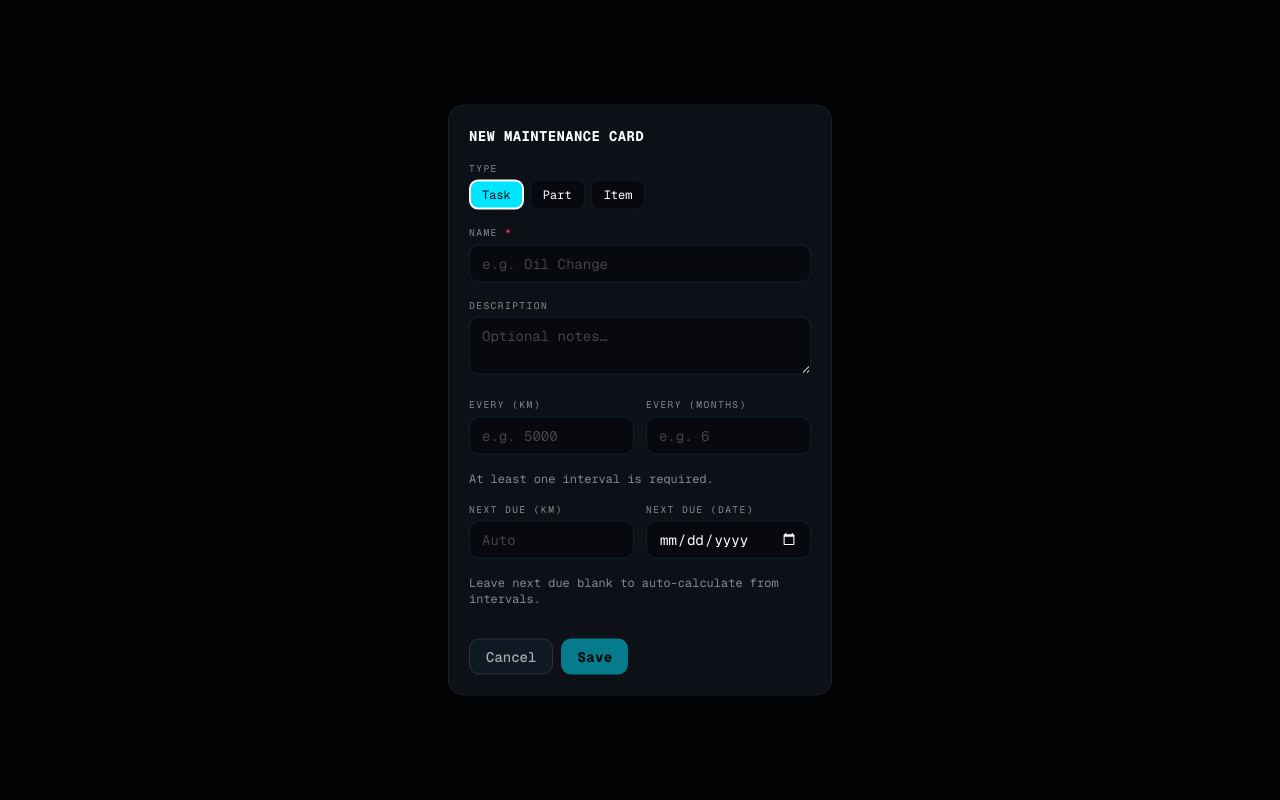
Test case: MaintenanceCardFormDialog › enables Save when name and at least one interval are filled
Type "My Card" into the field with placeholder "e.g. Oil Change" at (640, 263), box [469, 244, 811, 282]
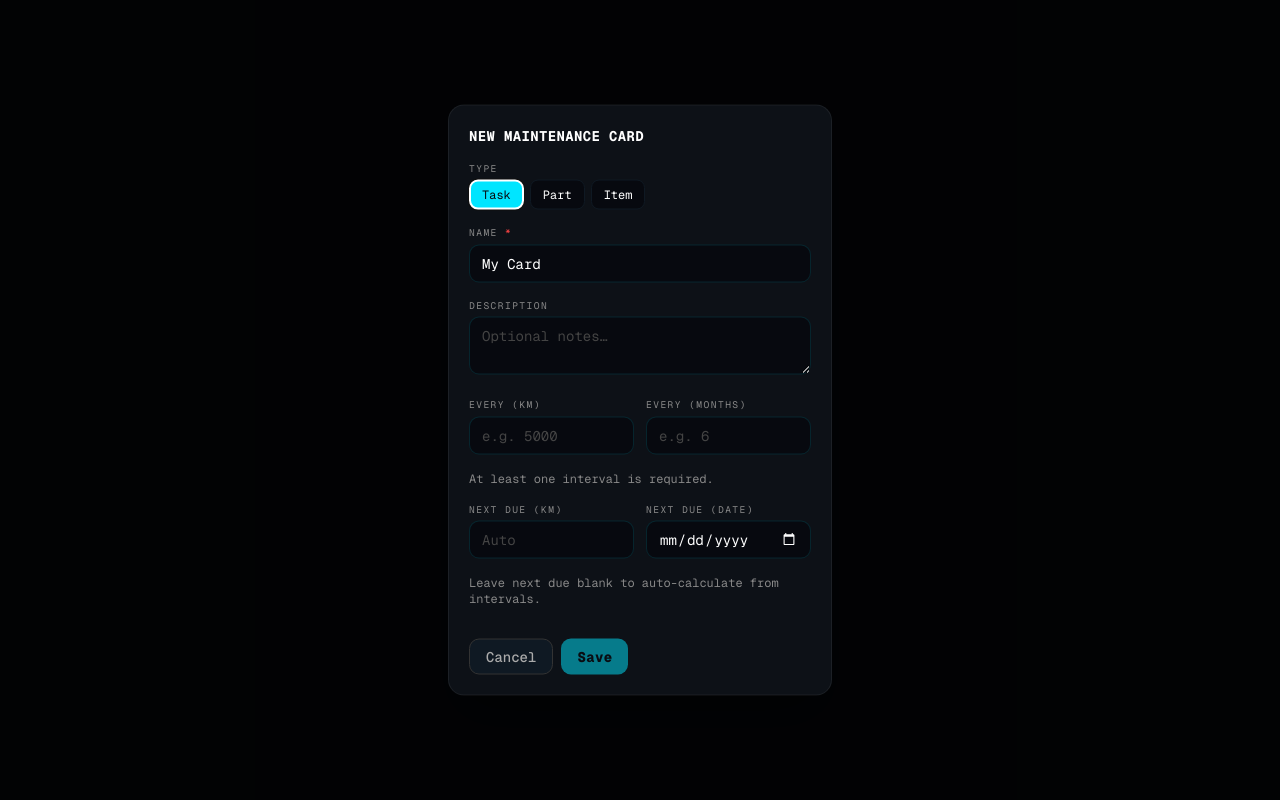
Type "5000" into the number field with placeholder "e.g. 5000" at (552, 435), box [469, 416, 634, 454]
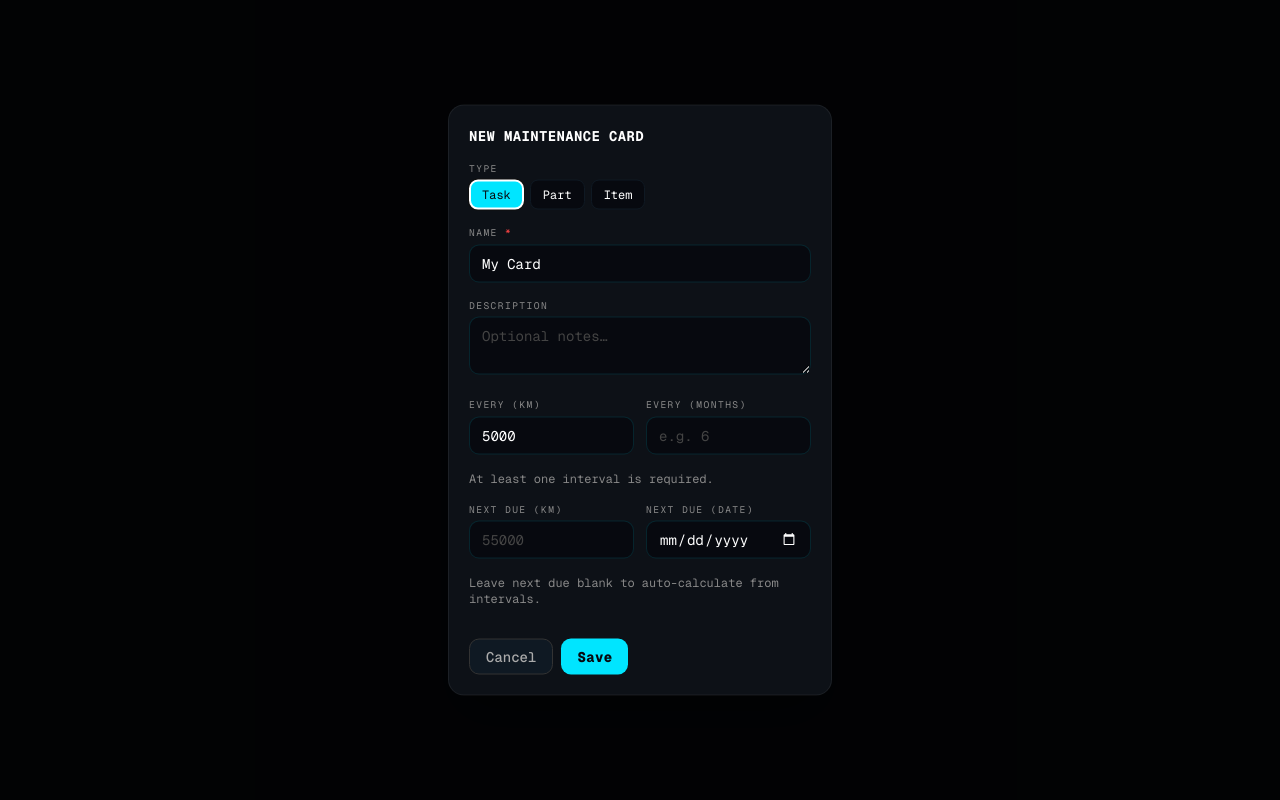
Expected: the button "Save" is enabled, [561, 638, 628, 674]
